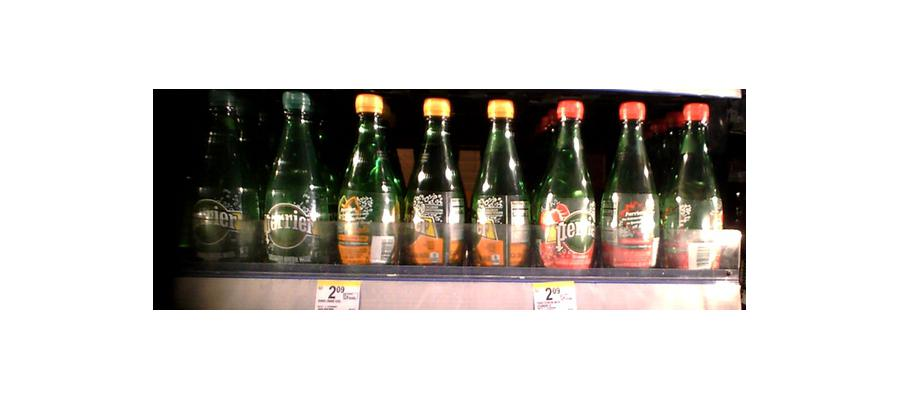bottle: (264, 84, 328, 267), (336, 93, 400, 275), (404, 94, 466, 270), (601, 99, 663, 275), (472, 98, 534, 274), (666, 100, 726, 281), (201, 90, 262, 266), (538, 100, 597, 277)
